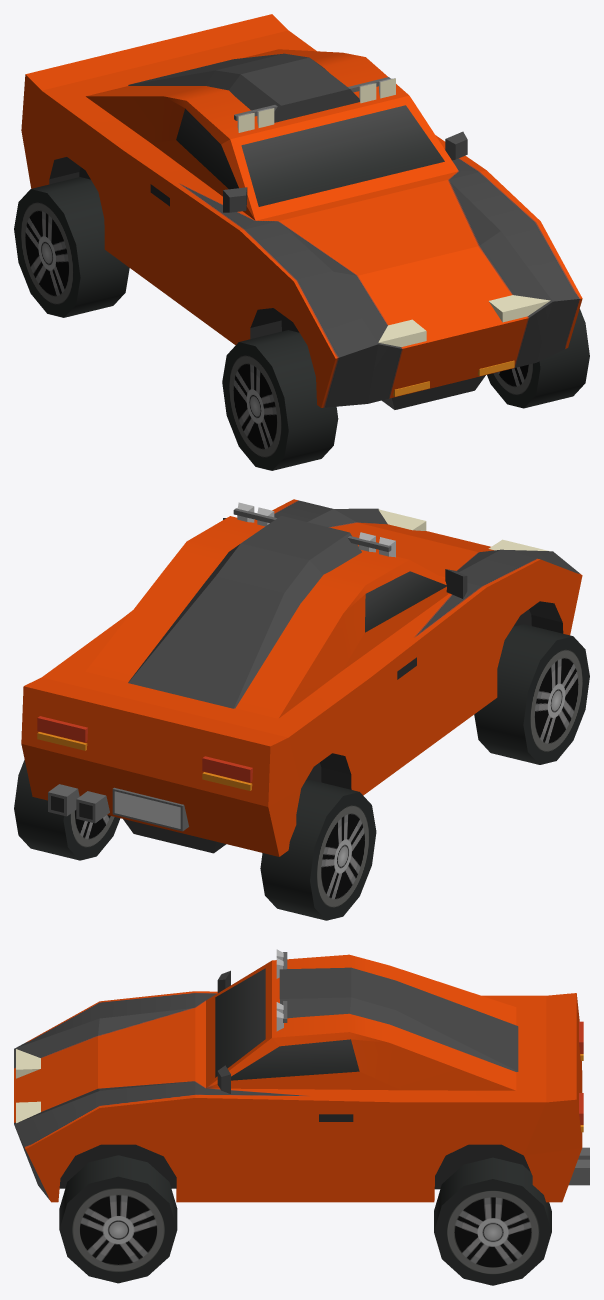
The model's file is SUVC.fbx.
The picture shows the model from 3 angles, top to bottom: view 1: azimuth 30°, elevation 25°; view 2: azimuth 150°, elevation 25°; view 3: azimuth 270°, elevation 25°; orthographic projection. The views are drawn at different scales.
Parts seen in each view (by area): view 1: SUVC, TireFR, TireBR, TireFL; view 2: SUVC, TireFR, TireBR, TireBL; view 3: SUVC, TireFL, TireBL.
Boxes of the visible parts, x1,y1,x2,y2 form: SUVC: (21,14,582,409); TireFR: (222,330,338,470); TireBR: (14,177,129,317); TireFL: (487,308,589,408); SUVC: (21,499,582,856); TireFR: (474,624,589,764); TireBR: (260,780,376,920); TireBL: (14,760,120,860); SUVC: (14,949,589,1202); TireFL: (59,1155,177,1283); TireBL: (434,1157,551,1285).
Bounding box in the file's own units: 249 × 214 × 466.
